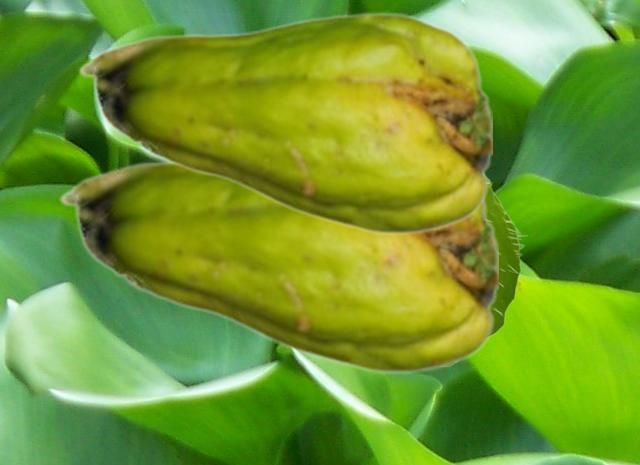sayote: (58, 157, 497, 374), (77, 11, 491, 235), (448, 174, 526, 368)
